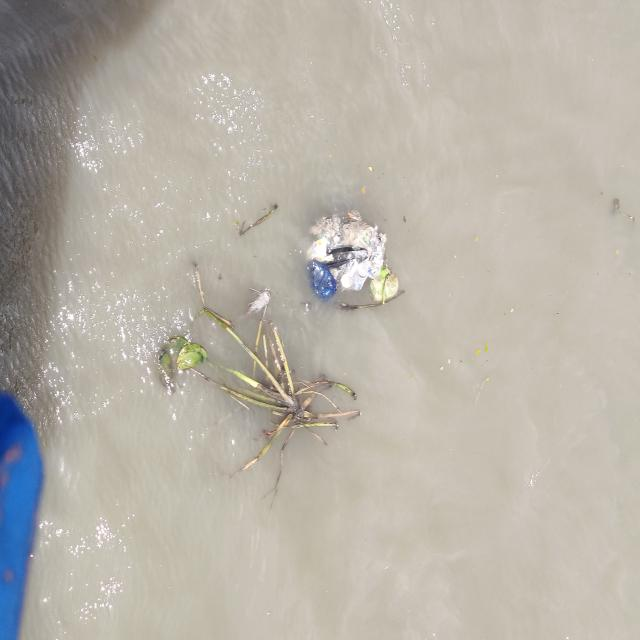Biological Debris: (239, 273, 278, 324)
Organic Debris: (115, 247, 371, 516), (220, 186, 289, 245), (472, 370, 493, 407), (616, 203, 640, 231), (434, 351, 453, 380), (605, 194, 622, 223), (467, 229, 483, 252), (323, 149, 339, 170), (449, 286, 462, 308), (507, 304, 522, 322), (356, 177, 367, 201), (365, 160, 378, 178), (446, 247, 457, 266), (460, 272, 470, 290), (472, 343, 481, 358), (482, 336, 488, 352)
Plastic: (291, 192, 416, 329)
